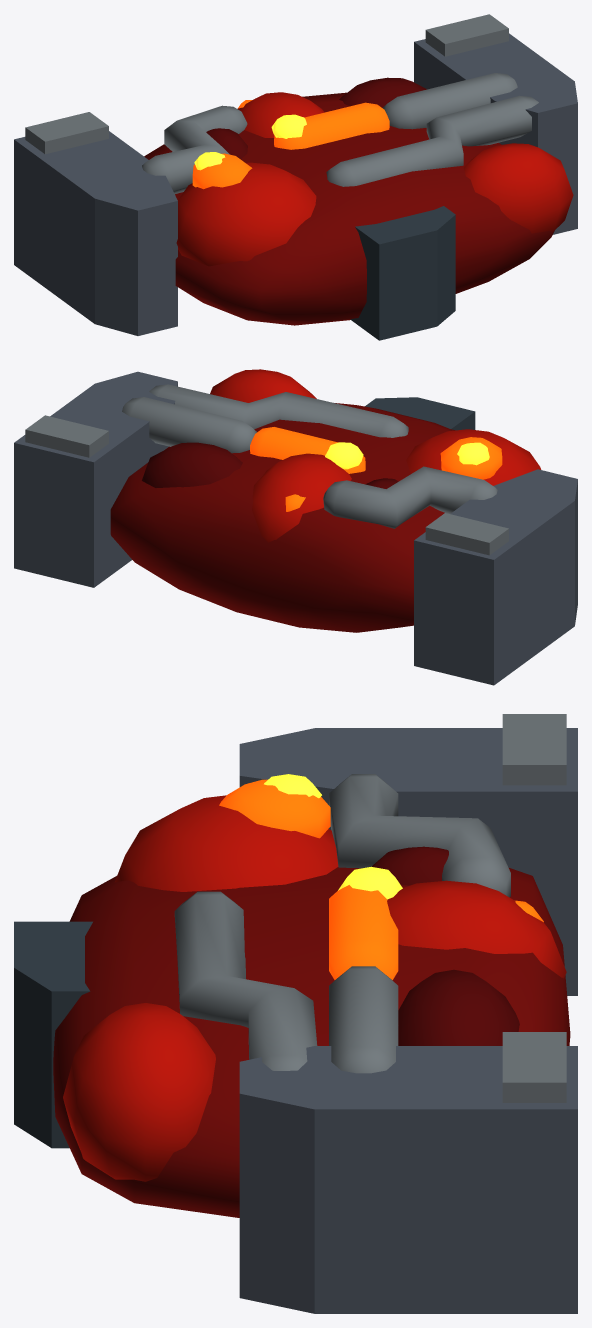
Rendered from newsh5-166.glb.
The picture shows the model from 3 angles, top to bottom: view 1: azimuth 30°, elevation 25°; view 2: azimuth 150°, elevation 25°; view 3: azimuth 270°, elevation 25°; orthographic projection. The views are drawn at different scales.
Parts seen in each view (by area): view 1: newsh5-166; view 2: newsh5-166; view 3: newsh5-166.
Boxes of the visible parts, x1=… form: newsh5-166: x1=14, y1=14, x2=577, y2=340; newsh5-166: x1=14, y1=369, x2=577, y2=685; newsh5-166: x1=14, y1=714, x2=577, y2=1313.
Size of the model in its own units: 2 by 0.6365 by 1.25.
